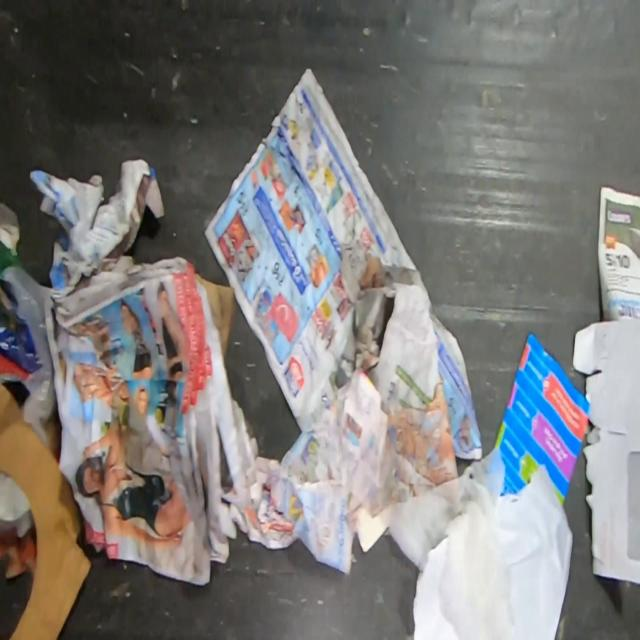cardboard: (0, 380, 92, 640), (196, 272, 235, 362)
soft_plastic: (381, 446, 515, 640), (0, 238, 62, 463)
